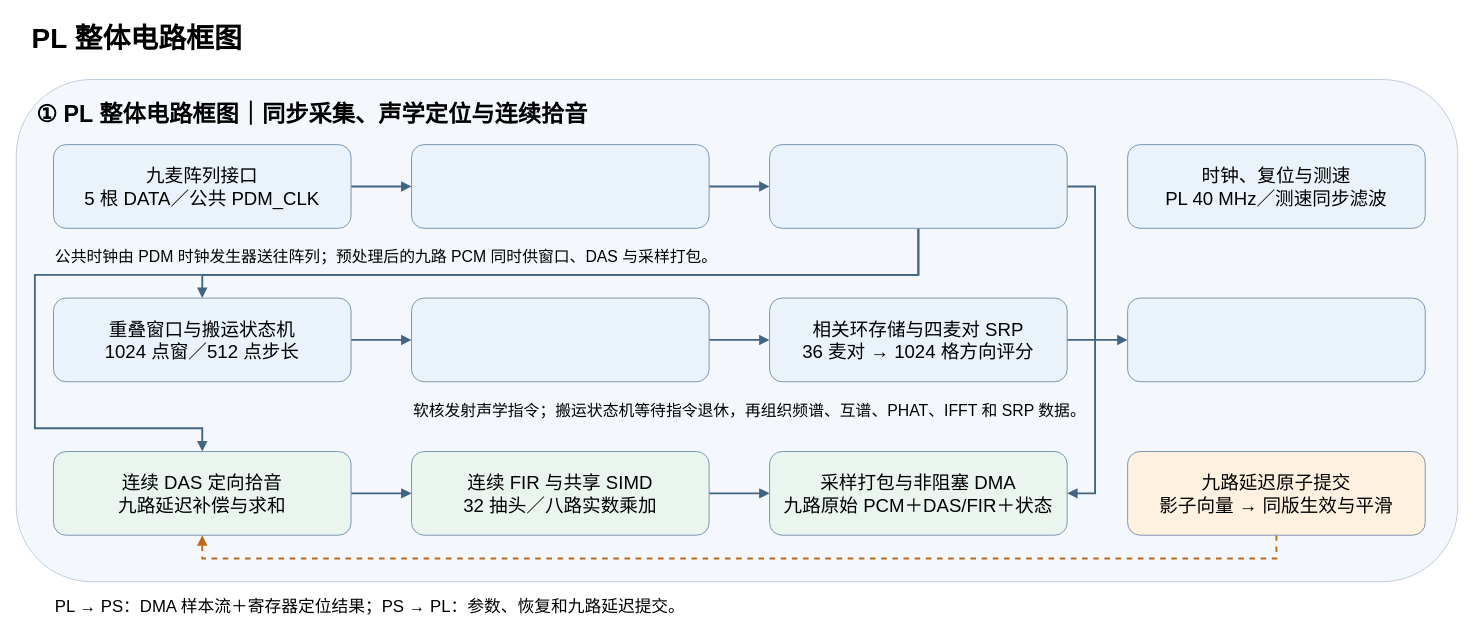
Image size: 1474x637. Some labels were removed from this diagram. Here are the shapes that lost their labels. From the top down, the centre of each, then its label:
At point 560,186: "PDM 接收与抽取 双相采样 → CIC → 九路 PCM".
At point 918,186: "通道预处理与同步分流 去直流、增益校正｜156250 Hz".
At point 560,339: "自研五级 RISC-V 声学处理器 共享 FFT/IFFT、四路复数单元".
At point 1276,339: "控制与状态寄存器 定位结果、采集代次、测速状态".
